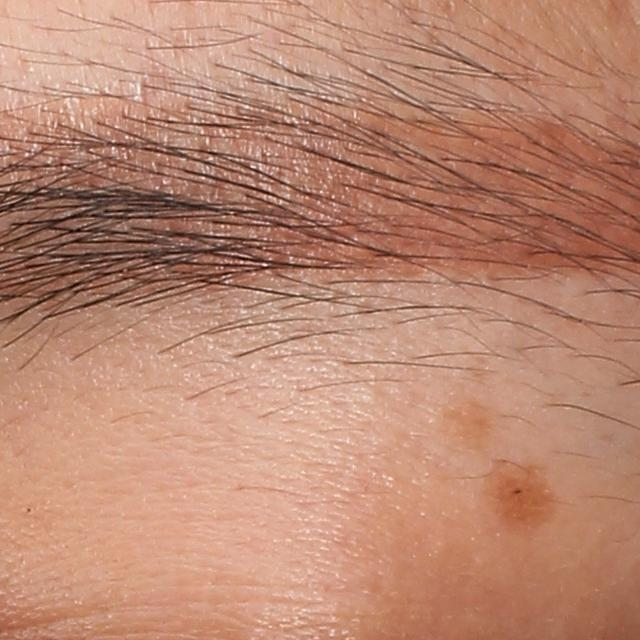melasma: (476, 464, 569, 527), (442, 393, 496, 445)
